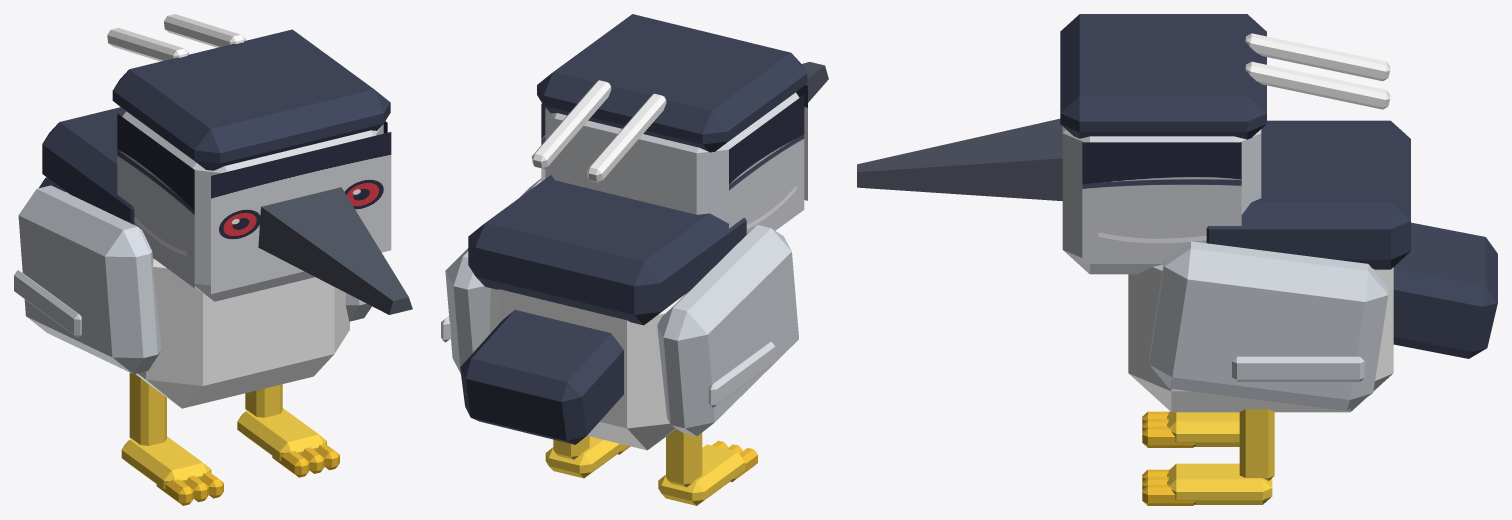
File: asset.glb
3 renders of one model, left to right at view 1: azimuth 30°, elevation 25°; view 2: azimuth 150°, elevation 25°; view 3: azimuth 270°, elevation 25°, orthographic. The views are drawn at different scales.
Visible parts, largest first — view 1: black crown, plump white body, left folded wing, painted front face, long tapered dark bill, painted side face -1, black back saddle, large pale head, flat yellow foot.001, flat yellow foot, yellow leg, wing feather accent -1 (+6 smaller); view 2: black back saddle, black crown, left folded wing, dark tail, large pale head, plump white body, painted side face -1, right folded wing, flat yellow foot, ivory crest plume, ivory crest plume.001, yellow leg (+5 smaller); view 3: right folded wing, black crown, black back saddle, painted side face 1, dark tail, long tapered dark bill, plump white body, large pale head, flat yellow foot.001, wing feather accent 1, ivory crest plume.001, ivory crest plume (+4 smaller).
Boxes of the visible parts, x1,y1,x2,y2 form: black crown: [112, 29, 390, 170]; plump white body: [65, 191, 349, 408]; left folded wing: [18, 185, 161, 374]; painted front face: [211, 132, 391, 294]; long tapered dark bill: [258, 187, 412, 314]; painted side face -1: [117, 113, 194, 287]; black back saddle: [42, 107, 134, 224]; large pale head: [122, 111, 383, 301]; flat yellow foot.001: [237, 408, 326, 461]; flat yellow foot: [121, 436, 211, 489]; yellow leg: [129, 372, 166, 445]; wing feather accent -1: [14, 270, 81, 337]; black back saddle: [468, 175, 746, 325]; black crown: [537, 14, 807, 152]; left folded wing: [657, 225, 798, 436]; dark tail: [460, 310, 623, 444]; large pale head: [545, 92, 799, 223]; plump white body: [489, 288, 685, 450]; painted side face -1: [729, 95, 804, 233]; right folded wing: [445, 178, 541, 373]; flat yellow foot: [658, 444, 745, 505]; ivory crest plume: [586, 93, 666, 182]; ivory crest plume.001: [531, 80, 611, 169]; yellow leg: [666, 429, 702, 487]; right folded wing: [1149, 241, 1388, 410]; black crown: [1060, 14, 1266, 139]; black back saddle: [1206, 120, 1410, 269]; painted side face 1: [1082, 142, 1241, 263]; dark tail: [1393, 222, 1497, 358]; long tapered dark bill: [857, 118, 1062, 200]; plump white body: [1128, 264, 1393, 412]; large pale head: [1062, 126, 1261, 274]; flat yellow foot.001: [1167, 463, 1272, 504]; wing feather accent 1: [1232, 356, 1364, 381]; ivory crest plume.001: [1245, 61, 1390, 109]; ivory crest plume: [1245, 33, 1390, 81].
Size of the model in its own units: 0.431 by 0.5922 by 0.8218.
9 materials, 2 textured.
